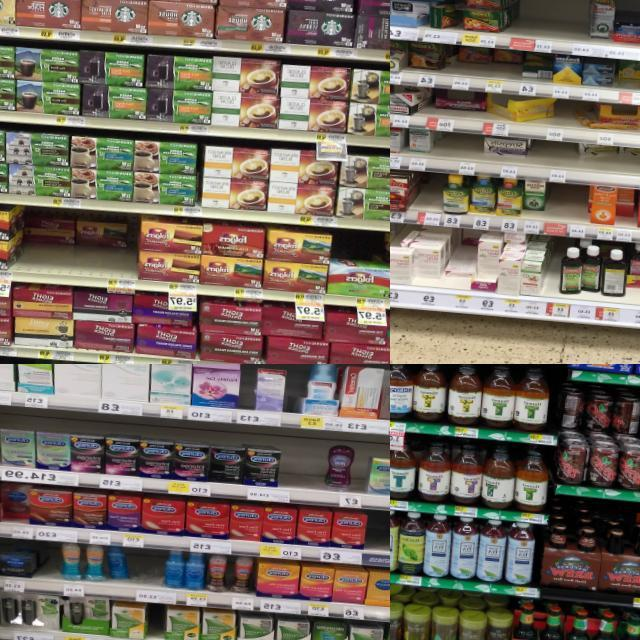Imprecise: (566, 380, 638, 490), (20, 216, 136, 276), (445, 49, 527, 80), (619, 184, 640, 220)
